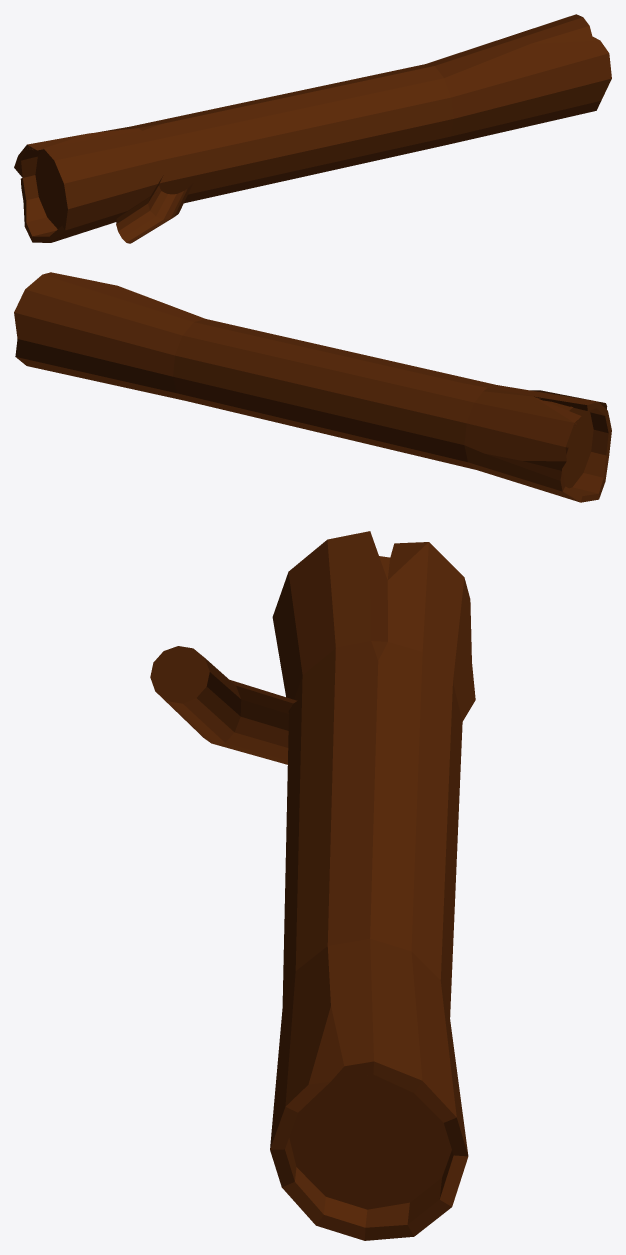
The model's file is firewood-03.glb.
3 renders of one model, top to bottom at view 1: azimuth 30°, elevation 25°; view 2: azimuth 150°, elevation 25°; view 3: azimuth 270°, elevation 25°, orthographic. The views are drawn at different scales.
Visible parts, largest first — view 1: firewood-03; view 2: firewood-03; view 3: firewood-03.
Boxes of the visible parts, x1,y1,x2,y2 form: firewood-03: [14, 14, 611, 243]; firewood-03: [14, 272, 611, 502]; firewood-03: [150, 531, 475, 1240].
Bounding box in the file's own units: 81.6 × 12.71 × 20.55.
